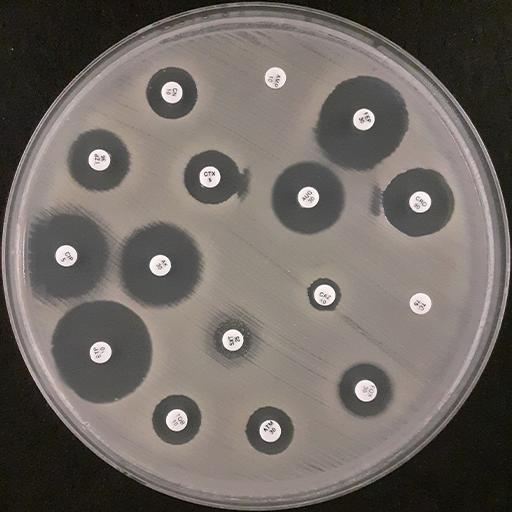disc: (354, 379, 377, 401), (161, 81, 183, 103), (353, 108, 375, 130), (88, 149, 110, 171), (149, 254, 171, 276), (409, 191, 431, 213), (313, 284, 335, 306), (222, 329, 244, 351), (89, 341, 111, 363), (166, 409, 188, 431), (259, 420, 281, 442), (265, 67, 286, 89), (199, 166, 220, 188), (55, 245, 77, 266), (410, 293, 432, 314), (298, 187, 319, 208)
